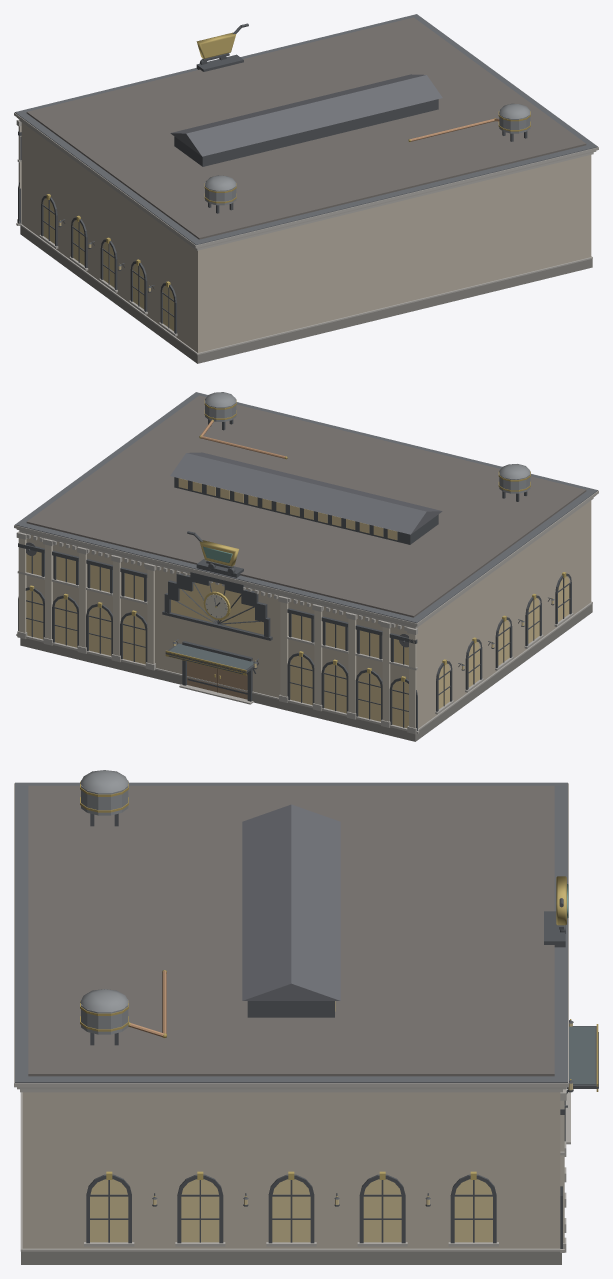
File: centro-supermercado-99b03a35.glb
3 renders of one model, top to bottom at view 1: azimuth 30°, elevation 25°; view 2: azimuth 150°, elevation 25°; view 3: azimuth 270°, elevation 25°, orthographic. The views are drawn at different scales.
Visible parts, largest first — view 1: centro_supermercado_body, centro_supermercado_wall, centro_supermercado_lamp, centro_supermercado_glow; view 2: centro_supermercado_body, centro_supermercado_wall, centro_supermercado_lamp, centro_supermercado_glow; view 3: centro_supermercado_body, centro_supermercado_wall, centro_supermercado_lamp, centro_supermercado_glow.
Boxes of the visible parts, box(x1,y1,x2,y2) form: centro_supermercado_body: box(14, 14, 598, 354); centro_supermercado_wall: box(20, 122, 592, 363); centro_supermercado_lamp: box(43, 198, 174, 331); centro_supermercado_glow: box(196, 23, 248, 64); centro_supermercado_body: box(14, 392, 598, 734); centro_supermercado_wall: box(20, 500, 592, 741); centro_supermercado_lamp: box(26, 478, 569, 727); centro_supermercado_glow: box(187, 531, 238, 574); centro_supermercado_body: box(14, 770, 598, 1252); centro_supermercado_wall: box(21, 1092, 561, 1264); centro_supermercado_lamp: box(90, 1001, 572, 1242); centro_supermercado_glow: box(556, 876, 568, 933).
Size of the model in its own units: 26.21 by 9.58 by 21.44.
